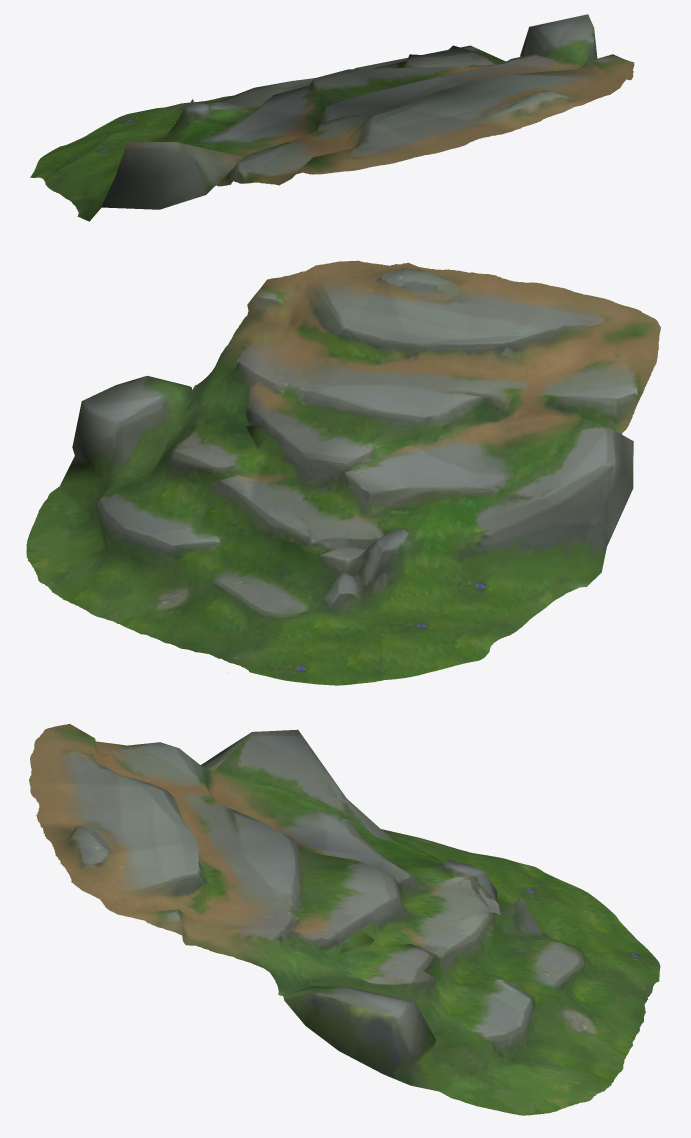
Rendered from scene_malujiakuangdao_louti01.FBX.
The picture shows the model from 3 angles, top to bottom: view 1: azimuth 30°, elevation 25°; view 2: azimuth 150°, elevation 25°; view 3: azimuth 270°, elevation 25°; orthographic projection. The views are drawn at different scales.
Parts seen in each view (by area): view 1: scene_malujiakuangdao_louti01; view 2: scene_malujiakuangdao_louti01; view 3: scene_malujiakuangdao_louti01.
Boxes of the visible parts, left/top/right/bottom form: scene_malujiakuangdao_louti01: left=30, top=14, right=634, bottom=221; scene_malujiakuangdao_louti01: left=26, top=260, right=660, bottom=685; scene_malujiakuangdao_louti01: left=29, top=724, right=660, bottom=1115.
Bounding box in the file's own units: 770 × 262 × 796.
